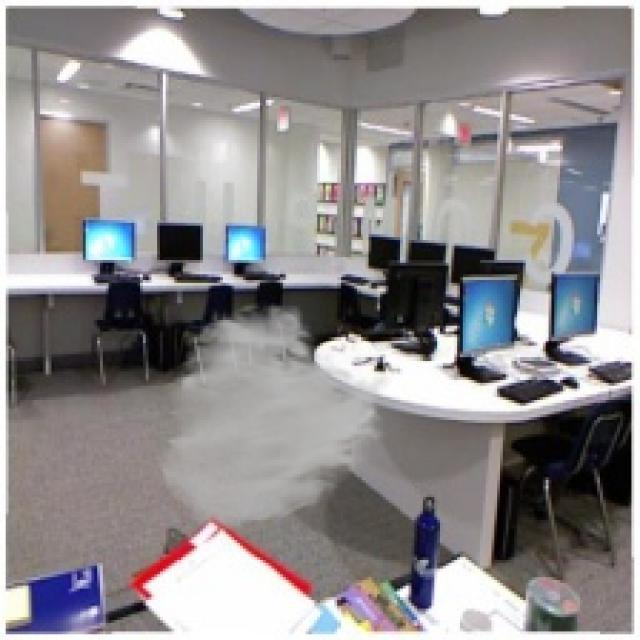Smoke: (154, 299, 394, 532)
